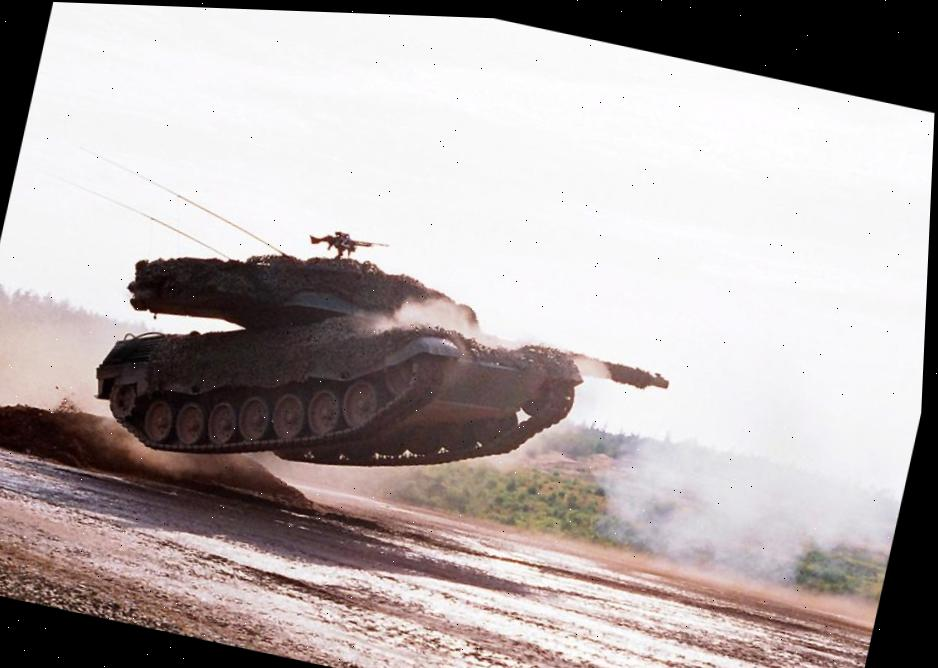tank: (73, 182, 693, 556)
